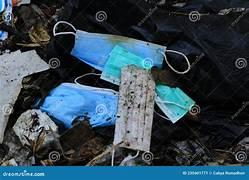Mask: (53, 21, 190, 84), (53, 21, 165, 70), (40, 83, 117, 127), (101, 46, 155, 84), (101, 46, 152, 84), (155, 85, 194, 122), (1, 0, 12, 24), (0, 31, 7, 40), (0, 0, 4, 12)
